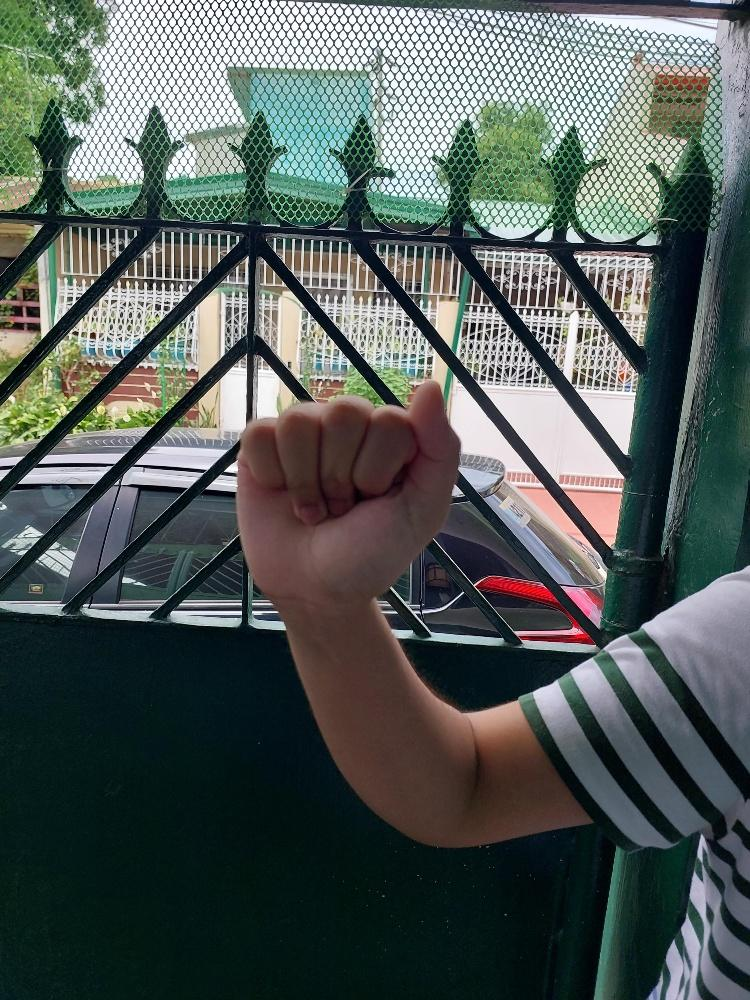a: (233, 374, 463, 608)
